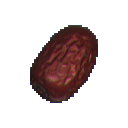gd: (18, 12, 117, 116)
